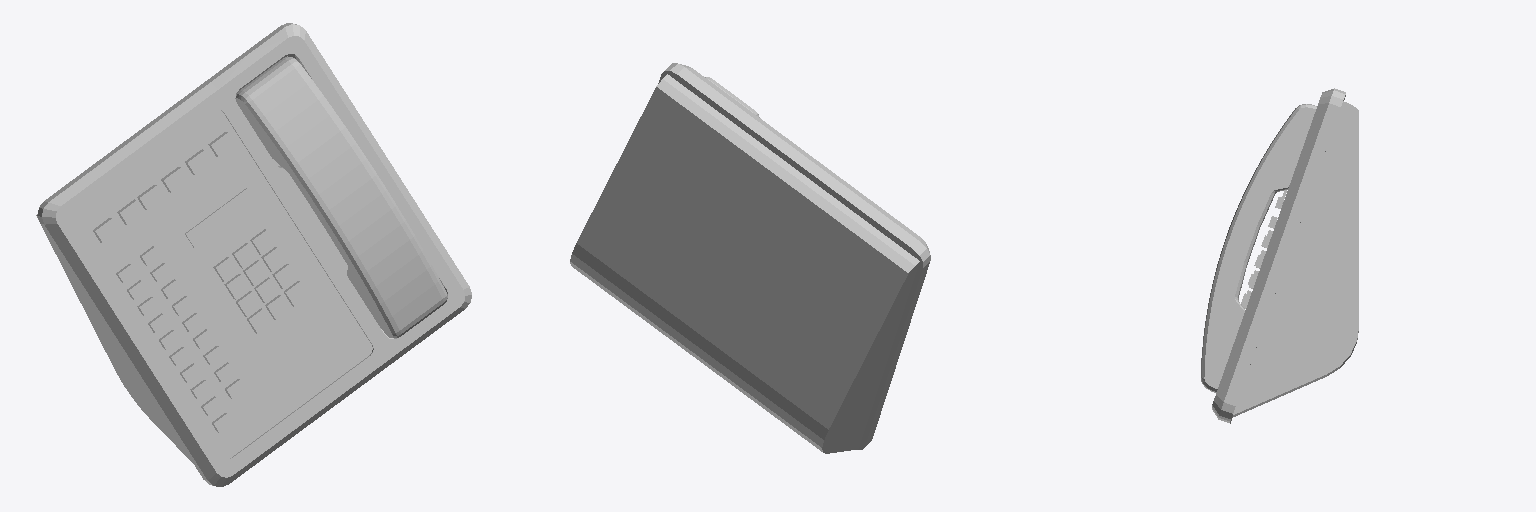
Rendered from Phones.obj.
3 views of the same model, side by side, from view 1: azimuth 30°, elevation 25°; view 2: azimuth 150°, elevation 25°; view 3: azimuth 270°, elevation 25° (orthographic).
Parts seen in each view (by area): view 1: office_phone_model.dmx; view 2: office_phone_model.dmx; view 3: office_phone_model.dmx.
Boxes of the visible parts, x1,y1,x2,y2 form: office_phone_model.dmx: [36, 23, 471, 486]; office_phone_model.dmx: [570, 63, 930, 453]; office_phone_model.dmx: [1201, 88, 1358, 423].
Bounding box in the file's own units: 0.2622 × 0.2618 × 0.0957.